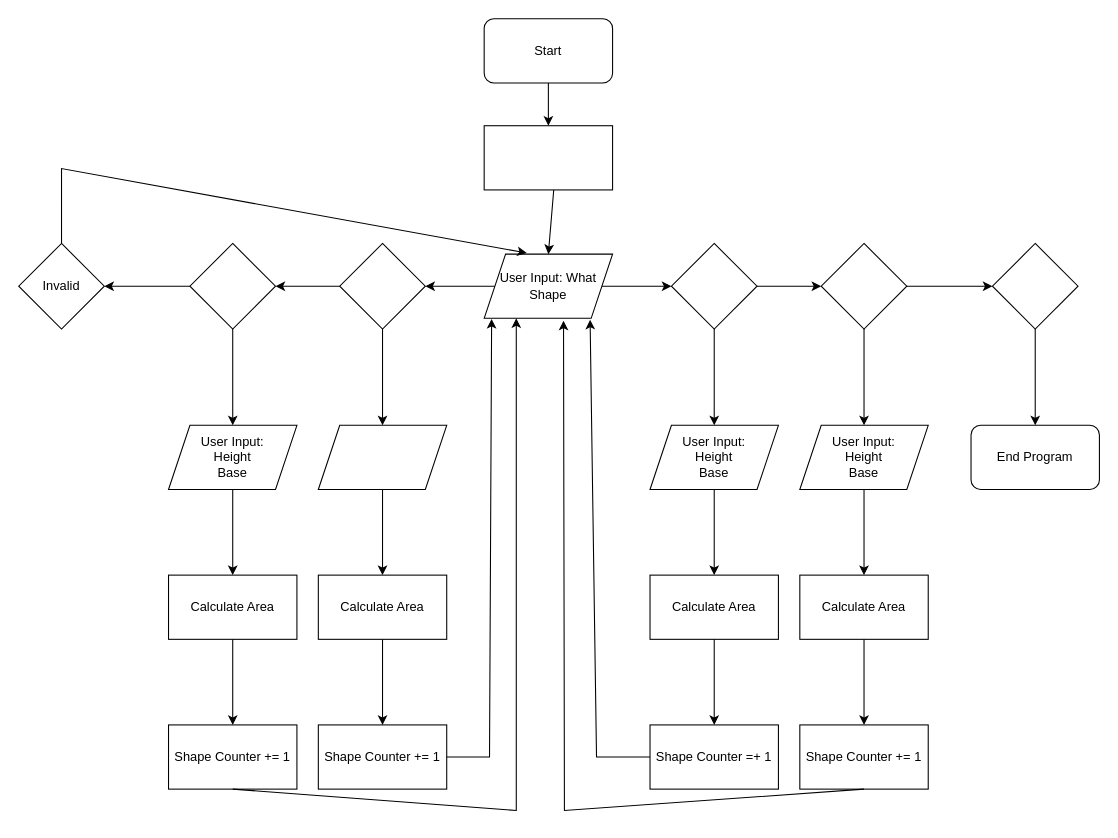
Image size: 1118x838. Some labels were removed from this diagram. The centre of each missing label's shape, as x and y in pixels:
Circle: (x=382, y=285)
Esc: (x=1034, y=285)
MY_PI: 3.142 shape_counter = 0: (x=548, y=157)
Rectangle: (x=863, y=285)
Square: (x=713, y=285)
Triangle: (x=232, y=285)
User Input: Radius: (x=382, y=457)
